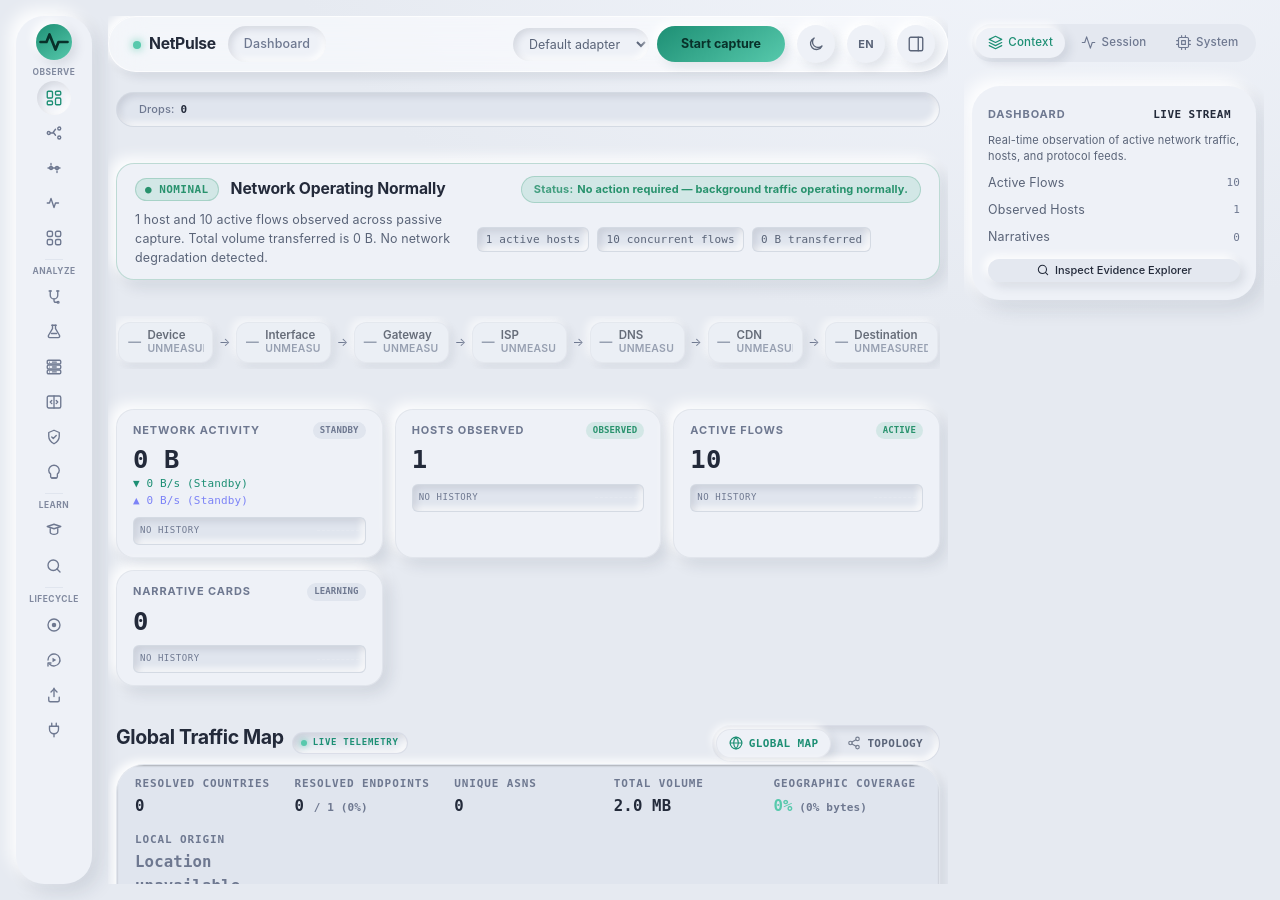
Scenario: RightRail Context Sidebar › renders top hosts list in Session tab when telemetry arrives
Click the tab "Session". click: (1114, 43)
box: x1=1069 y1=28 x2=1159 y2=58
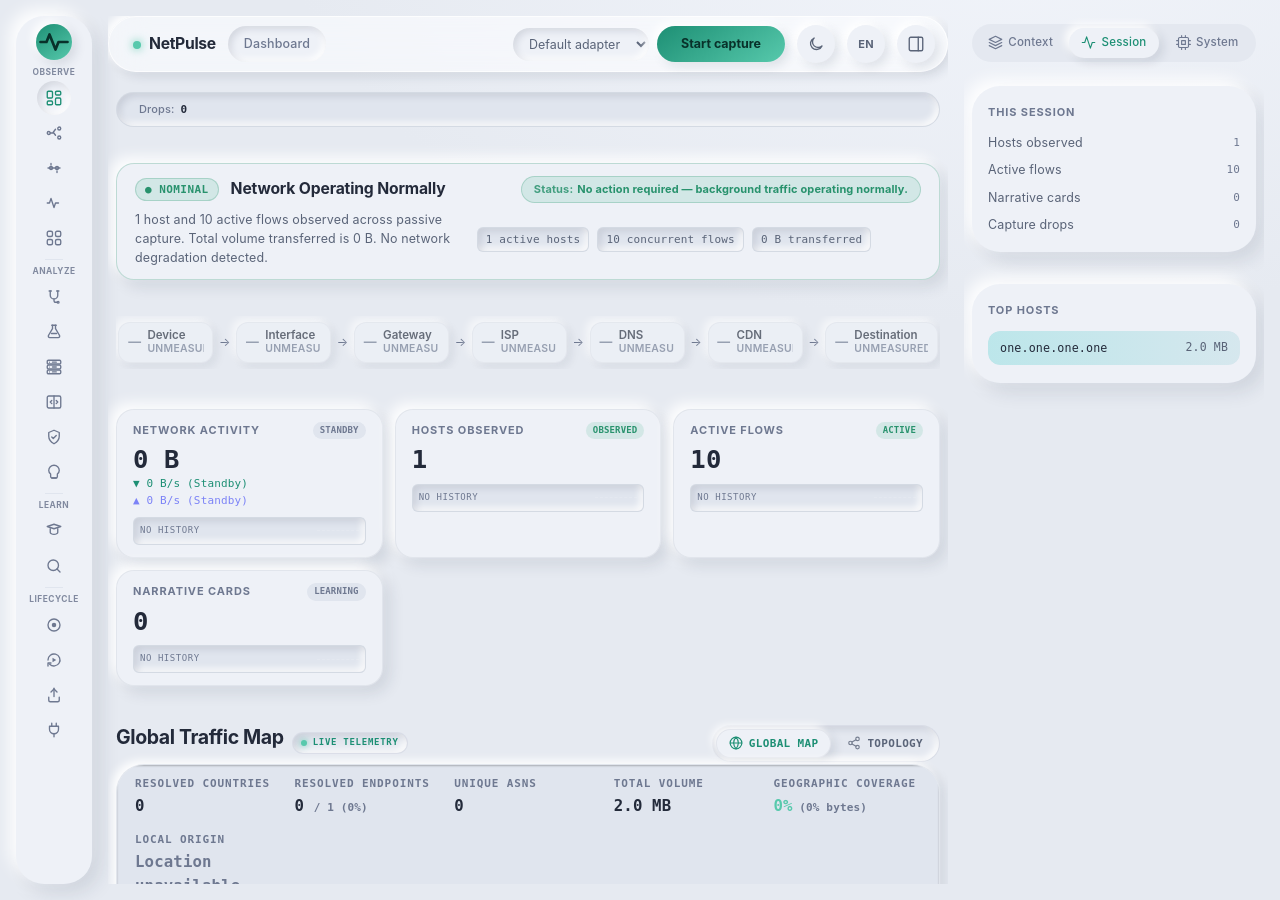
Check: the text "2.0 MB" in the row of "% bytes)" is shown, box x1=614 y1=796 x2=671 y2=815
Check: the text "one.one.one.one" is shown, box x1=1000 y1=341 x2=1108 y2=355
